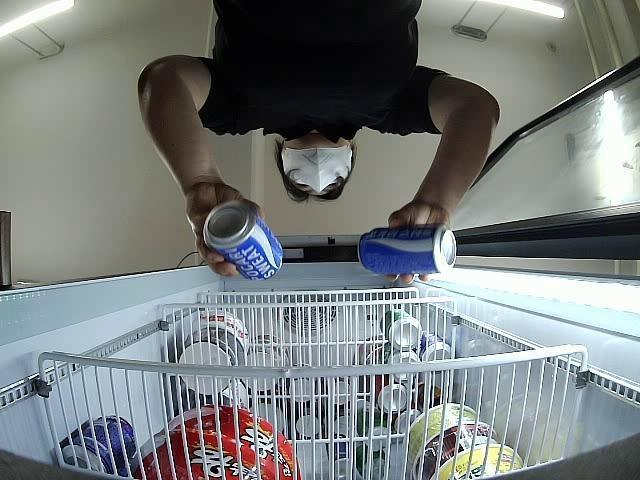13_pocariSweat: (202, 200, 284, 280), (358, 223, 456, 278)
